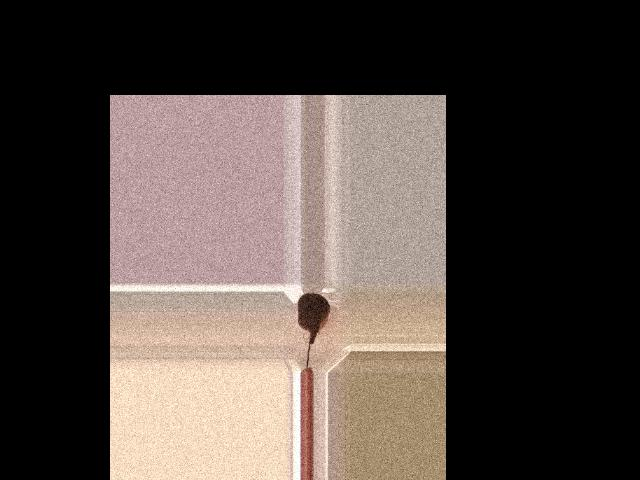beet: (298, 293, 330, 369)
